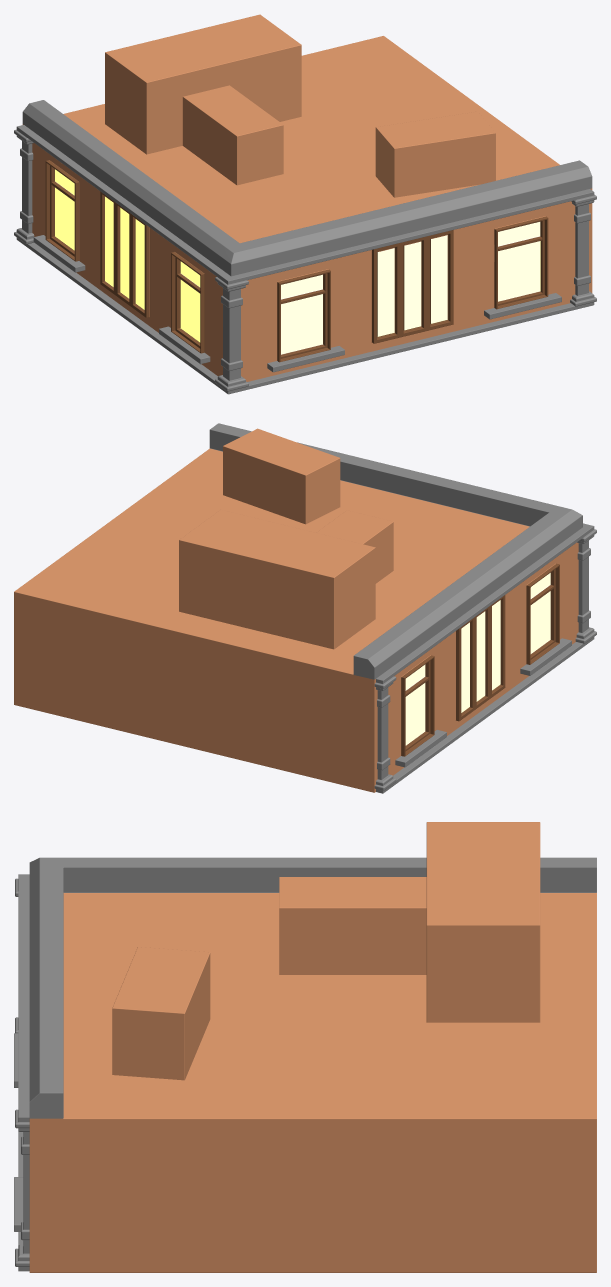
The model's file is Corner building top.fbx.
3 views of the same model, one above another, from view 1: azimuth 30°, elevation 25°; view 2: azimuth 150°, elevation 25°; view 3: azimuth 270°, elevation 25° (orthographic). The views are drawn at different scales.
Visible parts, largest first — view 1: CORNER BUILDING TOP; view 2: CORNER BUILDING TOP; view 3: CORNER BUILDING TOP.
Boxes of the visible parts, x1,y1,x2,y2 form: CORNER BUILDING TOP: [14, 14, 596, 394]; CORNER BUILDING TOP: [14, 423, 596, 793]; CORNER BUILDING TOP: [14, 822, 596, 1272].
Size of the model in its own units: 1027 by 490 by 1027.
